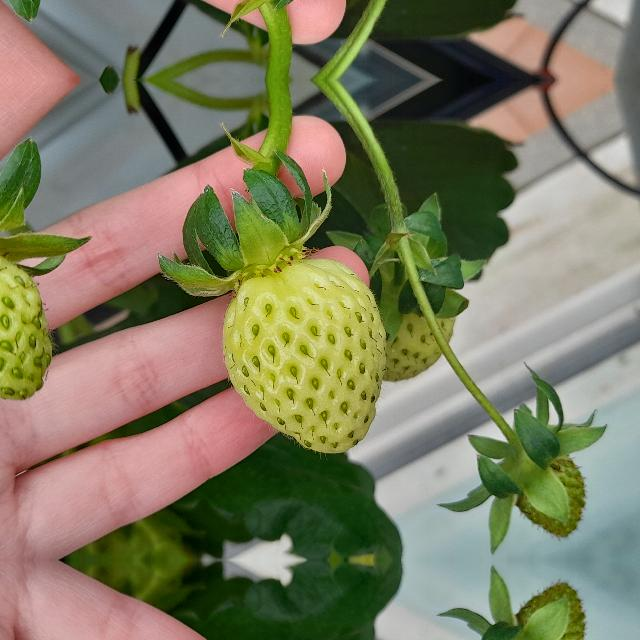Health_25: (222, 259, 386, 453), (480, 419, 600, 543), (479, 577, 600, 640)
